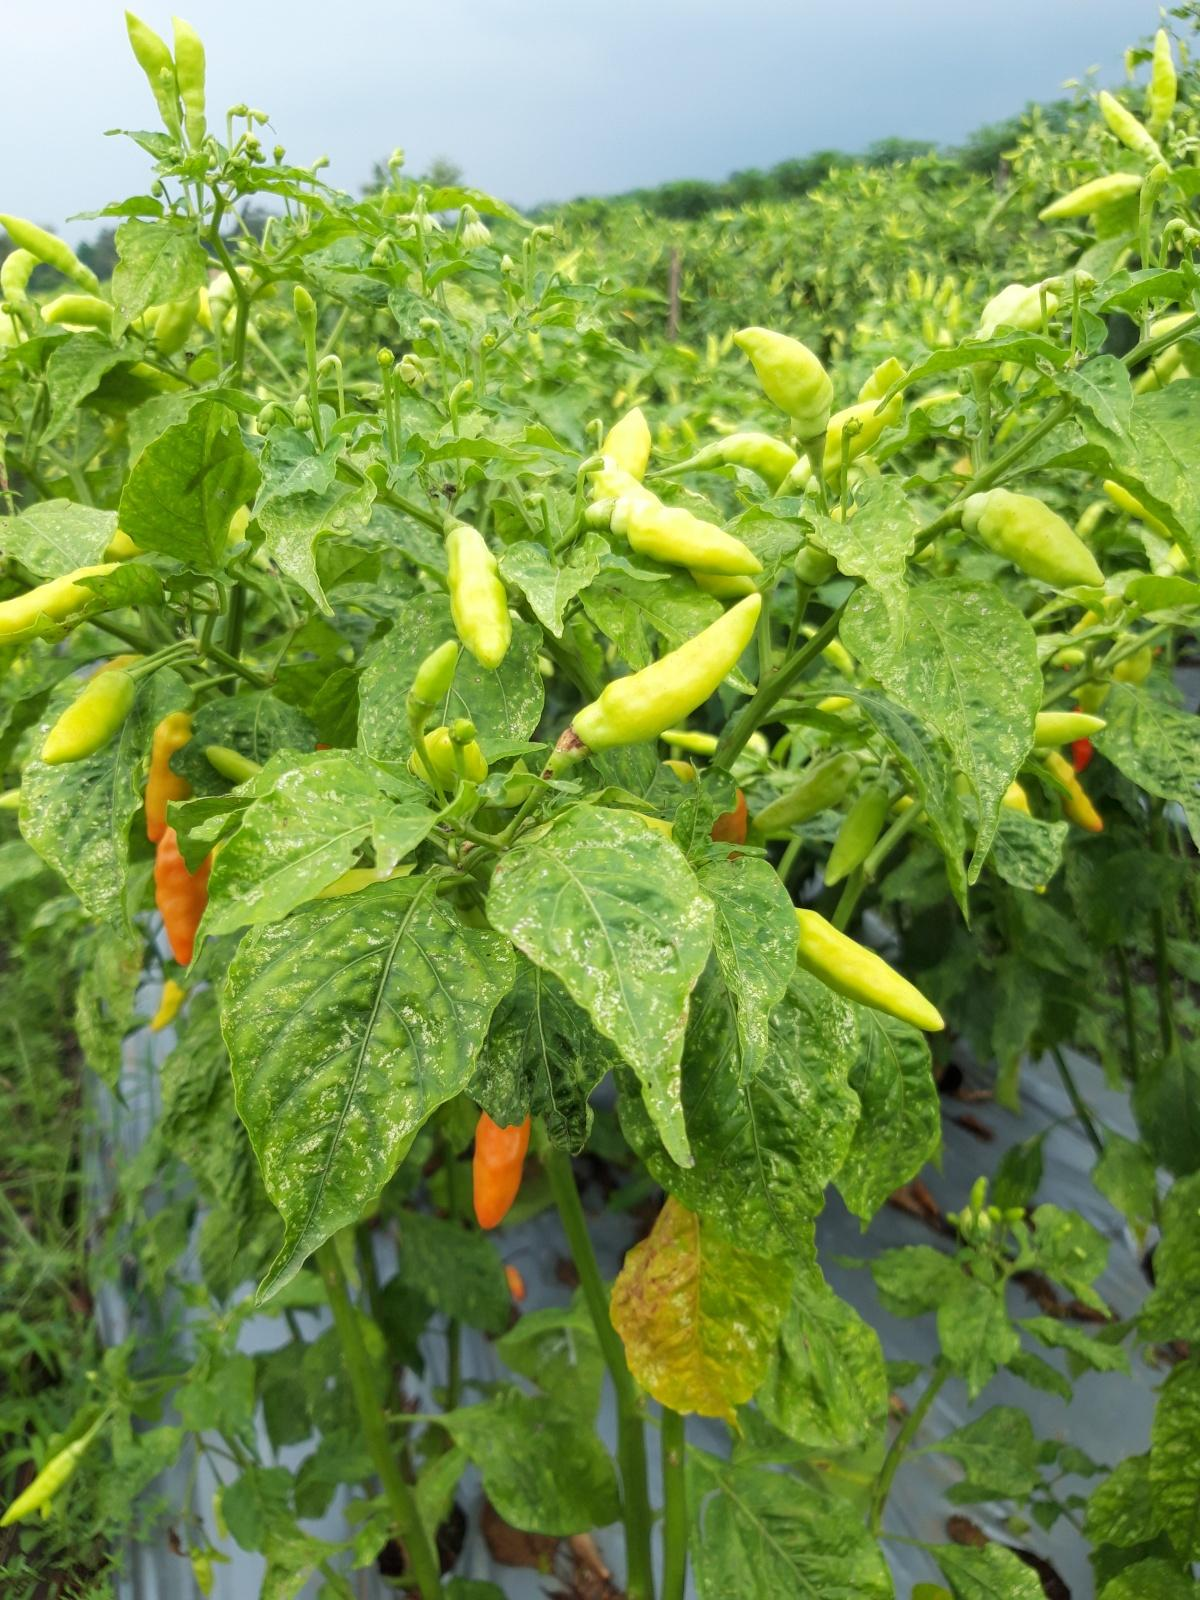cabai_normal: (571, 592, 763, 751), (782, 910, 945, 1034), (964, 490, 1108, 590), (610, 496, 765, 576), (732, 326, 833, 440), (792, 391, 903, 488), (445, 525, 514, 671), (154, 815, 214, 968), (39, 671, 134, 766), (13, 562, 125, 629), (470, 1109, 532, 1230), (125, 8, 183, 127), (144, 714, 193, 847), (0, 214, 92, 281), (587, 406, 653, 498), (711, 433, 798, 495), (1037, 171, 1139, 223), (1047, 752, 1105, 831), (171, 14, 207, 137), (39, 292, 131, 335), (1098, 89, 1155, 149), (1148, 28, 1179, 136), (411, 639, 459, 706), (1029, 711, 1107, 747), (0, 249, 47, 305)
